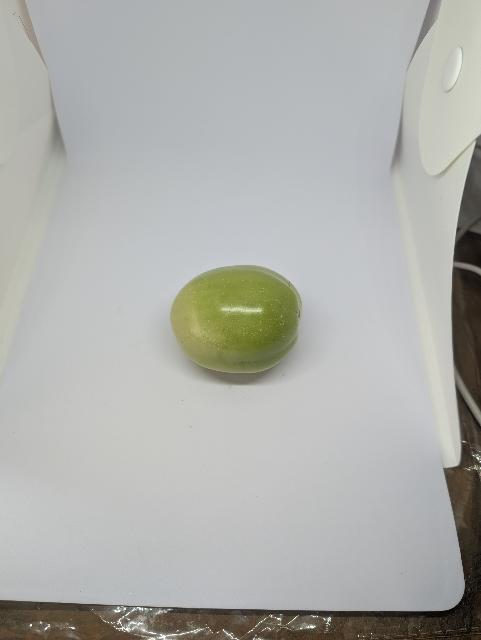green: (169, 265, 306, 375)
